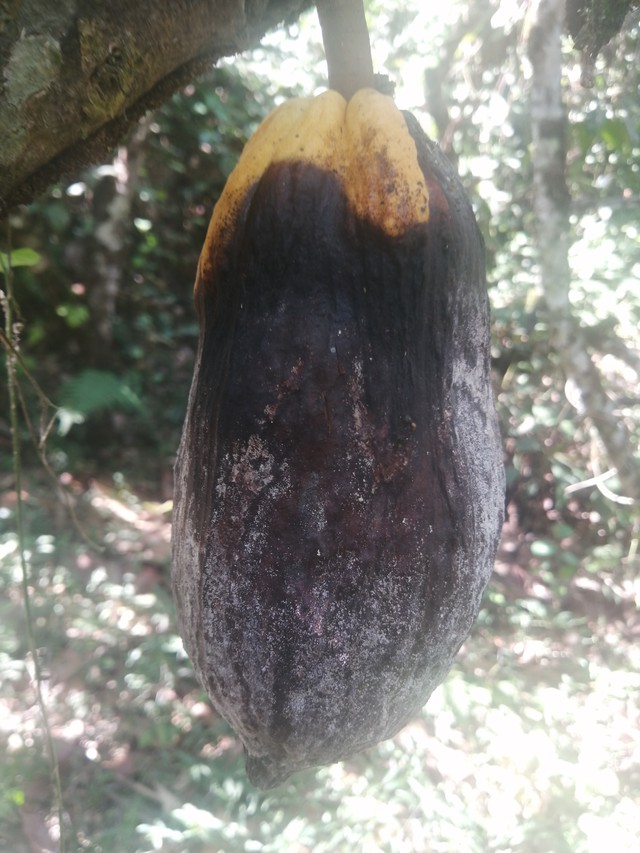moniliophthora roreri: (133, 60, 518, 801)
